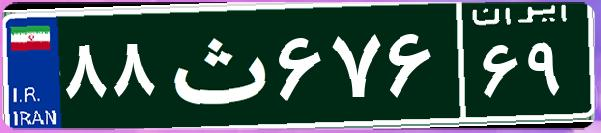6: (385, 28, 445, 110), (273, 28, 330, 110), (475, 38, 525, 113)
7: (330, 28, 385, 110)
8: (57, 26, 110, 107), (110, 28, 158, 105)
9: (525, 38, 570, 115)
ث: (158, 15, 273, 115)
